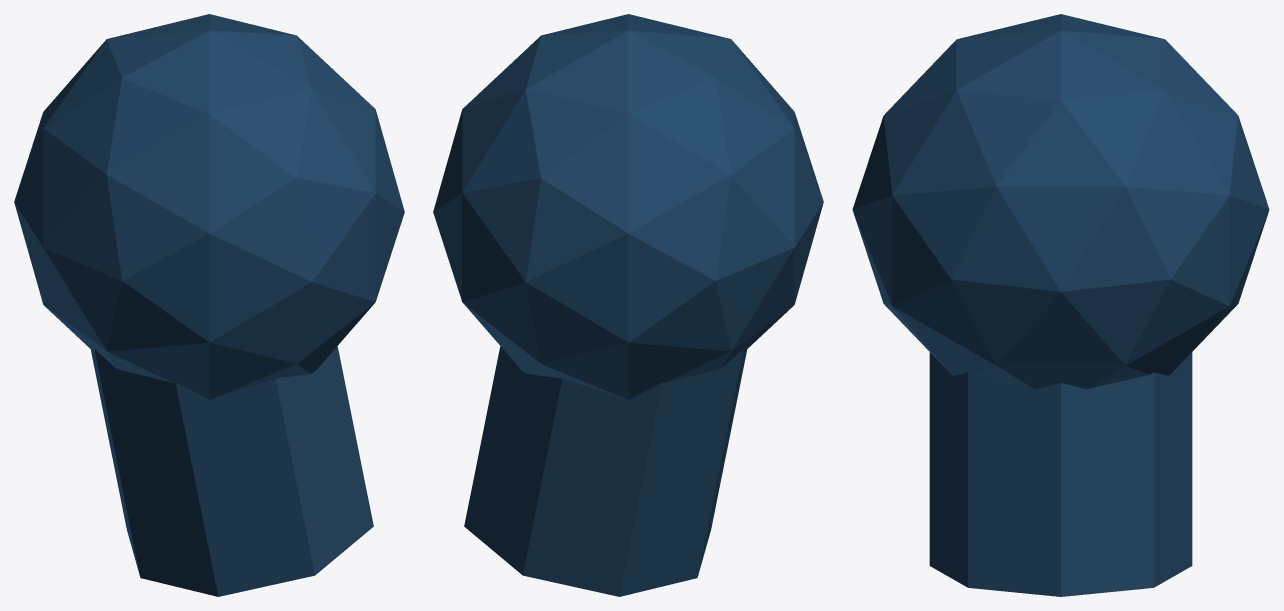
The model's file is ArmRight.glb.
3 views of the same model, side by side, from view 1: azimuth 30°, elevation 25°; view 2: azimuth 150°, elevation 25°; view 3: azimuth 270°, elevation 25° (orthographic).
Parts seen in each view (by area): view 1: Sculpture; view 2: Sculpture; view 3: Sculpture.
Boxes of the visible parts, bbox=[...] form: Sculpture: bbox=[14, 14, 404, 596]; Sculpture: bbox=[433, 14, 823, 596]; Sculpture: bbox=[852, 14, 1269, 596].
Bounding box in the file's own units: 0.252 × 0.3847 × 0.27.
